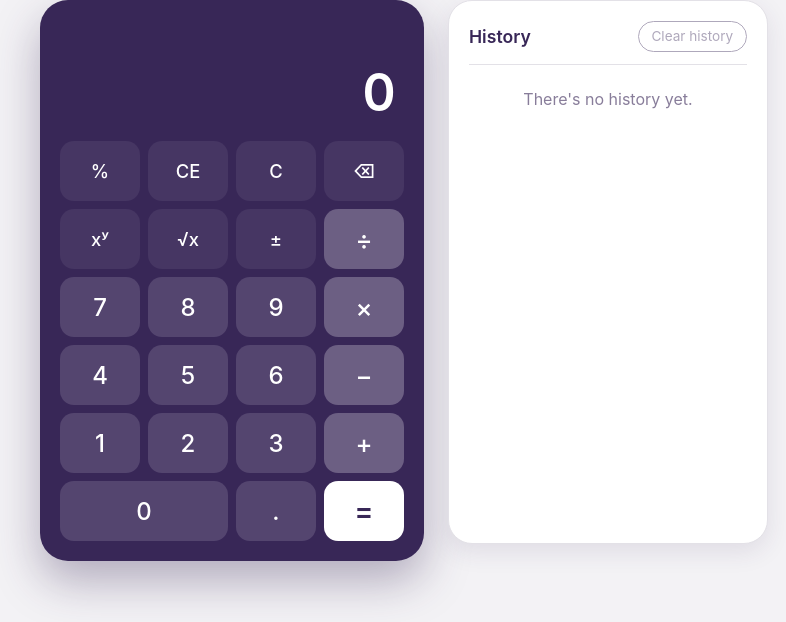
Calculator › shows errors and disables operators until a new entry starts
Type keys "8/0{Enter}"
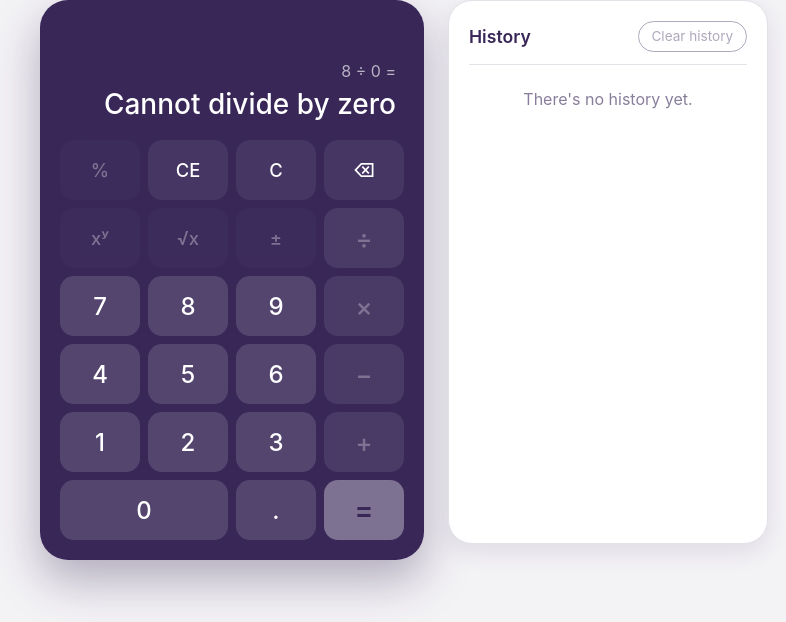
Result: the text with test id "display-value" reads "Cannot divide by zero" at [104, 87, 396, 121]
Result: the button named "Add" is disabled at [324, 412, 404, 472]
Click the button named "Clear". click: (276, 170)
box: [236, 140, 316, 200]
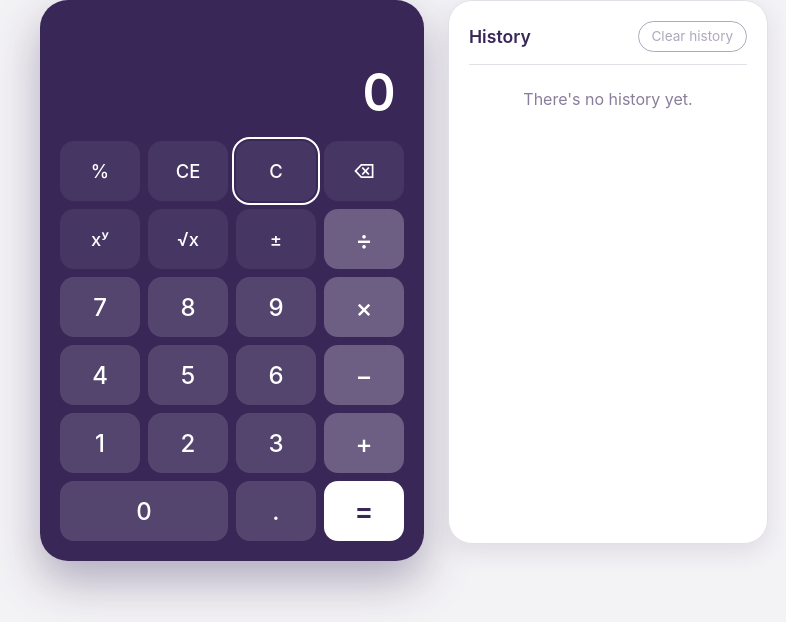
Result: the text with test id "display-value" reads "0" at [362, 61, 396, 124]
Result: the button named "Add" is enabled at [324, 413, 404, 473]
